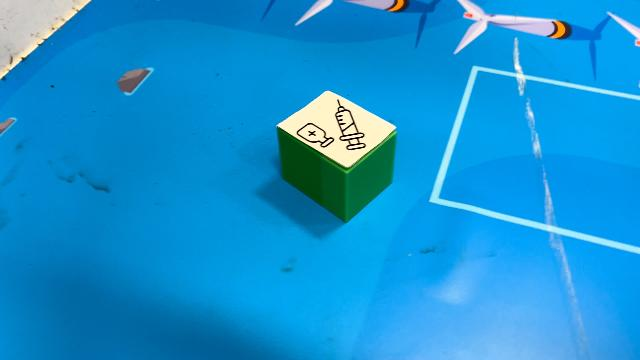syringe: (275, 88, 399, 224)
